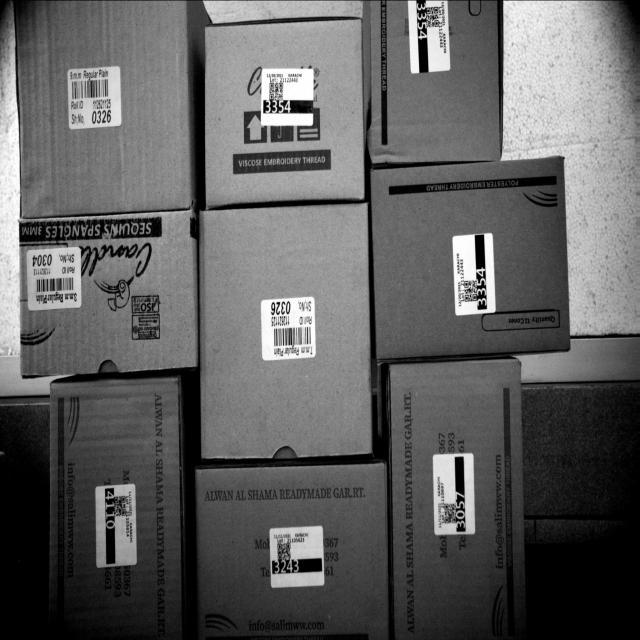box: (201, 206, 372, 464), (374, 156, 570, 360), (18, 0, 194, 213), (391, 364, 522, 640), (49, 383, 182, 639), (190, 466, 385, 639), (206, 23, 364, 202), (207, 17, 363, 198), (22, 215, 195, 372), (368, 0, 506, 164), (368, 0, 502, 166)
